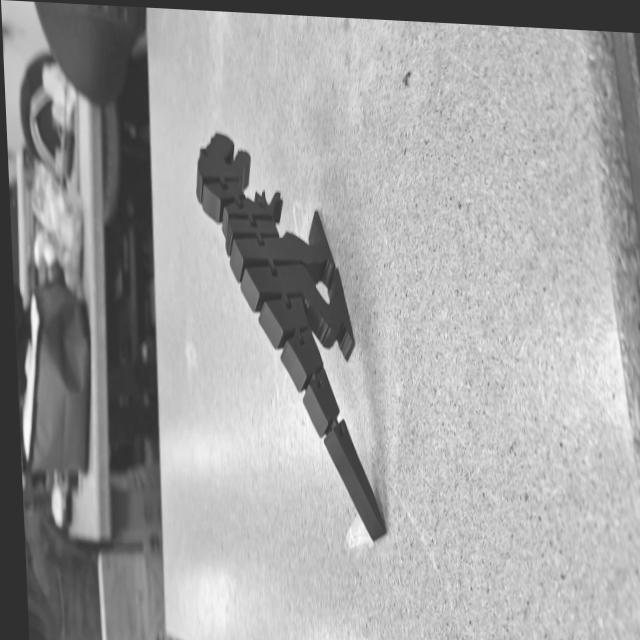dino: (191, 130, 387, 543)
